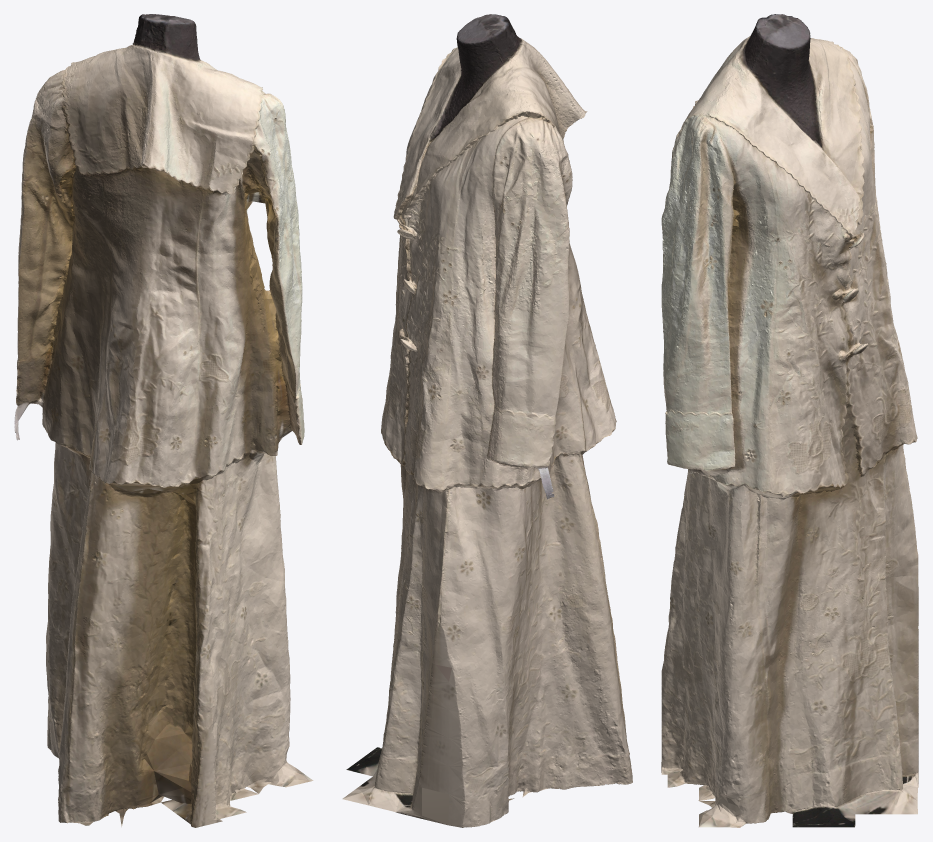
Rendered from testdress2-detail.glb.
3 views of the same model, side by side, from view 1: azimuth 30°, elevation 25°; view 2: azimuth 150°, elevation 25°; view 3: azimuth 270°, elevation 25° (orthographic). The views are drawn at different scales.
Visible parts, largest first — view 1: TestDress2; view 2: TestDress2; view 3: TestDress2.
Boxes of the visible parts, bbox=[...] form: TestDress2: bbox=[14, 14, 313, 827]; TestDress2: bbox=[342, 14, 632, 827]; TestDress2: bbox=[661, 14, 918, 827].
Bounding box in the file's own units: 7.89 × 24.67 × 7.62.
1 material, 1 textured.
